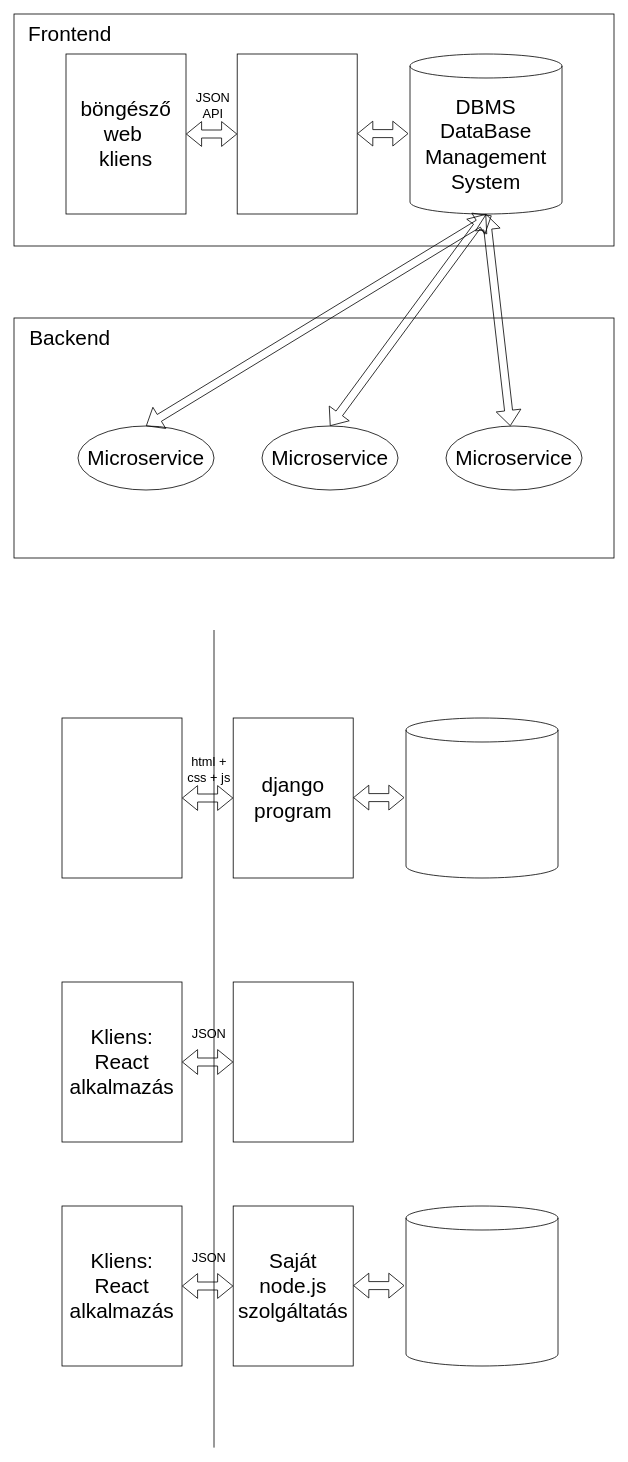
Image size: 628x1462. Some labels were removed from this diagram. Here are the shapes that lost their labels. From the top down, the centre of each, then its label:
At (296,133): "web szerver".
At (121,797): "böngésző html+css+js".
At (481,797): "Django DB".
At (292,1061): "API szolgáltatás".
At (481,1285): "MongoDB".
